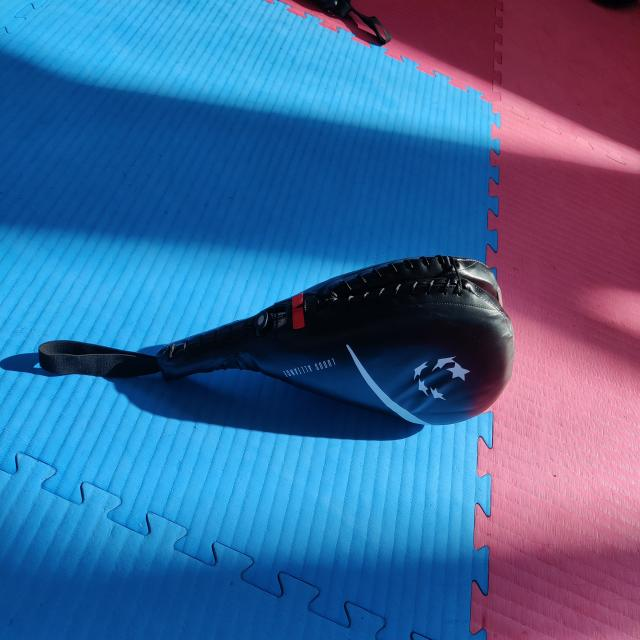paddle: (157, 252, 517, 428)
